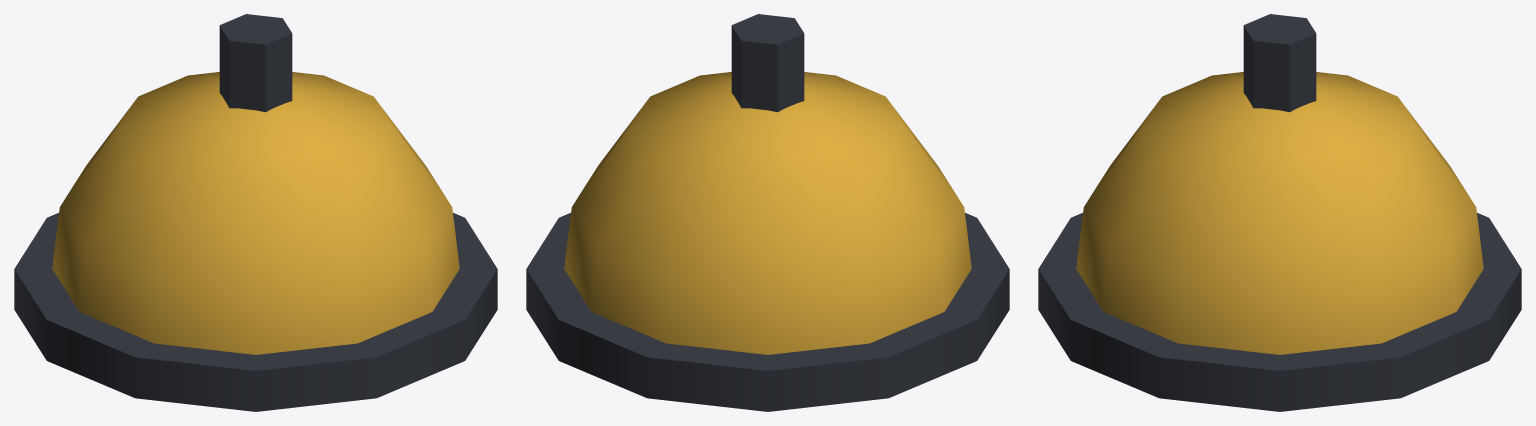
Rendered from Timbre.fbx.
3 renders of one model, left to right at view 1: azimuth 30°, elevation 25°; view 2: azimuth 150°, elevation 25°; view 3: azimuth 270°, elevation 25°, orthographic.
Parts seen in each view (by area): view 1: Timbre; view 2: Timbre; view 3: Timbre.
Boxes of the visible parts, x1,y1,x2,y2 form: Timbre: [14, 14, 497, 411]; Timbre: [526, 14, 1009, 411]; Timbre: [1038, 14, 1521, 411].
Bounding box in the file's own units: 0.64 × 0.41 × 0.64.
Materials: 1 (1 with a texture image).
